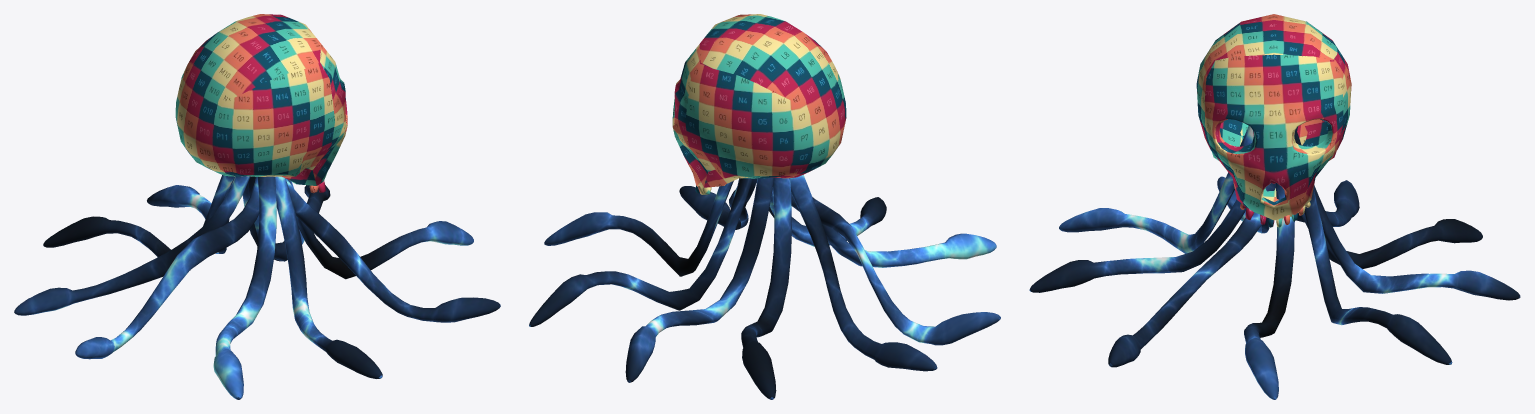
Rendered from SkullAndTentacles_mesh.FBX.
3 renders of one model, left to right at view 1: azimuth 30°, elevation 25°; view 2: azimuth 150°, elevation 25°; view 3: azimuth 270°, elevation 25°, orthographic.
Visible parts, largest first — view 1: Cylinder020, Skull; view 2: Cylinder020, Skull; view 3: Cylinder020, Skull.
Part boxes in pixels (left/top/right/bottom): Cylinder020: left=14, top=175, right=500, bottom=399; Skull: left=175, top=14, right=347, bottom=193; Cylinder020: left=529, top=175, right=1000, bottom=399; Skull: left=672, top=14, right=846, bottom=194; Cylinder020: left=1029, top=126, right=1520, bottom=399; Skull: left=1196, top=14, right=1351, bottom=227.
Size of the model in its own units: 31.54 by 19.9 by 31.13.
Materials: 2 (2 with a texture image).
